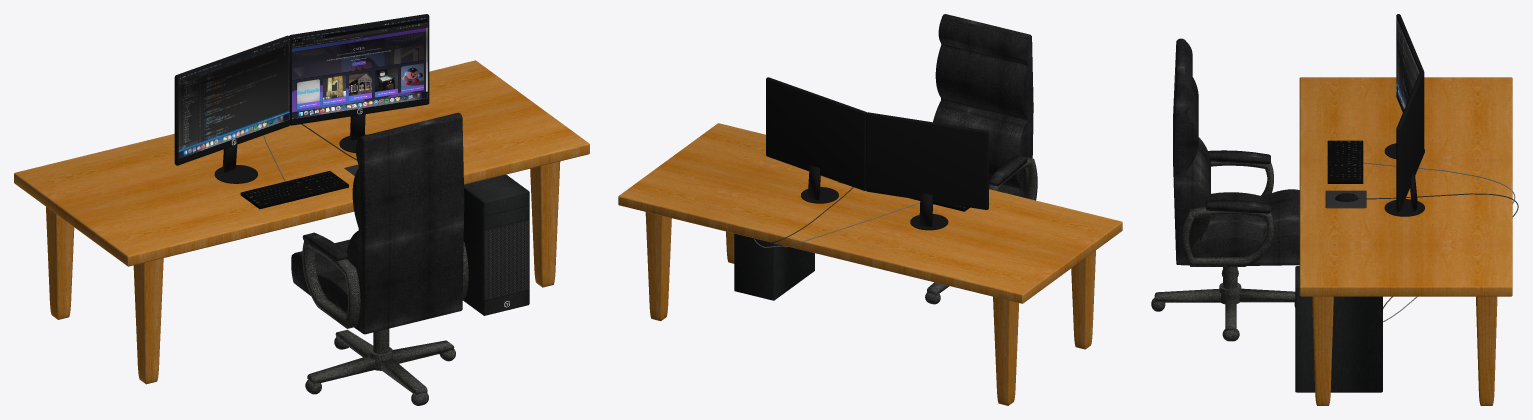
File: desk.glb
The picture shows the model from 3 angles, left to right: view 1: azimuth 30°, elevation 25°; view 2: azimuth 150°, elevation 25°; view 3: azimuth 270°, elevation 25°; orthographic projection. The views are drawn at different scales.
Parts seen in each view (by area): view 1: desk_1, Chair_1, Monitor2_1, Monitor1_1, desktop, Keyboard_3; view 2: desk_1, Chair_1, Monitor1_1, Monitor2_1, desktop; view 3: desk_1, Chair_1, desktop, Monitor2_1, Monitor1_1, Keyboard_3, Mouse_1.
Boxes of the visible parts, <box> form: desk_1: <box>14,60,589,384</box>; Chair_1: <box>291,112,468,405</box>; Monitor2_1: <box>289,14,429,152</box>; Monitor1_1: <box>174,35,290,183</box>; desktop: <box>463,174,529,315</box>; Keyboard_3: <box>240,171,348,209</box>; desk_1: <box>618,123,1122,405</box>; Chair_1: <box>925,14,1037,304</box>; Monitor1_1: <box>866,112,988,230</box>; Monitor2_1: <box>766,77,866,203</box>; desktop: <box>734,233,814,300</box>; desk_1: <box>1299,77,1512,405</box>; Chair_1: <box>1151,38,1299,341</box>; desktop: <box>1295,266,1382,392</box>; Monitor2_1: <box>1384,71,1424,216</box>; Monitor1_1: <box>1384,14,1424,158</box>; Keyboard_3: <box>1327,140,1363,183</box>; Mouse_1: <box>1325,190,1518,308</box>.
Size of the model in its own units: 3.5 by 1.95 by 2.59.
Materials: 9 (7 with a texture image).
